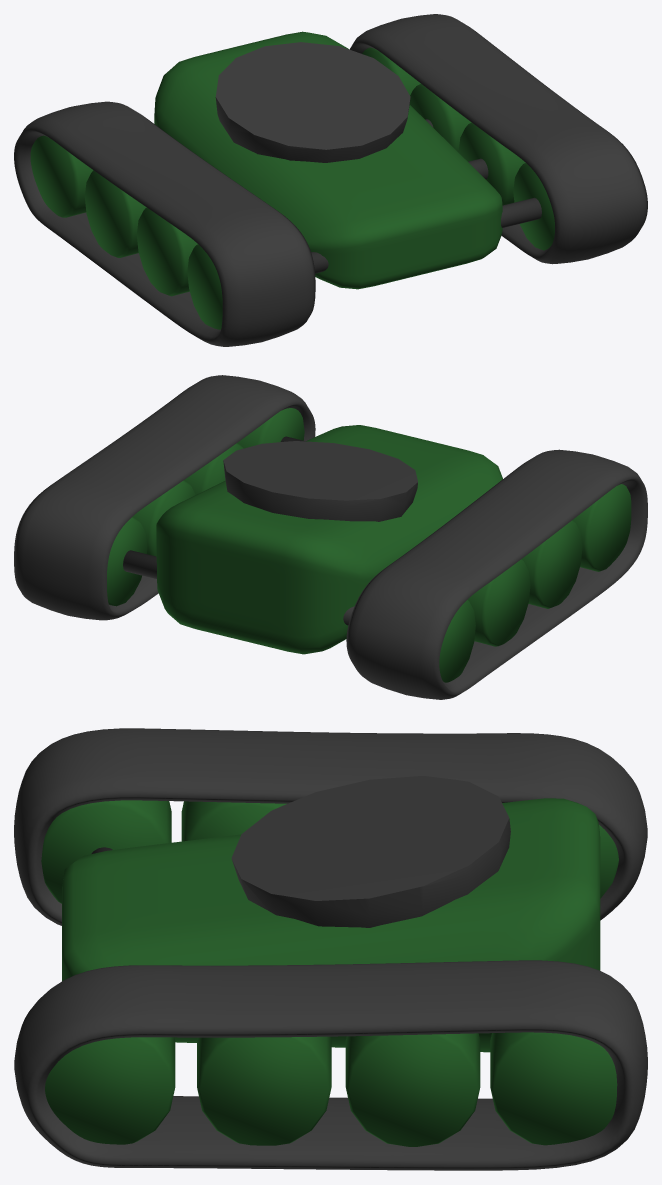
File: my_tank_1_base.glb
3 renders of one model, top to bottom at view 1: azimuth 30°, elevation 25°; view 2: azimuth 150°, elevation 25°; view 3: azimuth 270°, elevation 25°, orthographic. The views are drawn at different scales.
Parts seen in each view (by area): view 1: Cube, BézierCircle.001, BézierCircle, Cube.003, Cube.002, Cube.001, Cube.004; view 2: Cube, BézierCircle.001, BézierCircle, Cube.003, Cube.002, Cube.001, Cube.004; view 3: BézierCircle, Cube, Cube.001, BézierCircle.001, Cube.003, Cube.002.
Part boxes in pixels (x1,y1,x2,y2): Cube: (154, 31, 502, 289); BézierCircle.001: (14, 101, 315, 346); BézierCircle: (350, 14, 647, 264); Cube.003: (215, 42, 410, 162); Cube.002: (30, 135, 222, 329); Cube.001: (362, 47, 554, 250); Cube.004: (311, 119, 541, 273); Cube: (156, 425, 502, 654); BézierCircle.001: (346, 449, 647, 699); BézierCircle: (14, 375, 315, 620); Cube.003: (223, 441, 417, 521); Cube.002: (439, 484, 631, 682); Cube.001: (107, 408, 304, 606); Cube.004: (123, 436, 354, 625); BézierCircle: (14, 960, 647, 1170); Cube: (62, 798, 600, 1052); Cube.001: (45, 1032, 617, 1146); BézierCircle.001: (14, 728, 647, 925); Cube.003: (231, 776, 510, 927); Cube.002: (41, 800, 618, 903).
Bounding box in the file's own units: 61.22 × 20.66 × 55.26.
